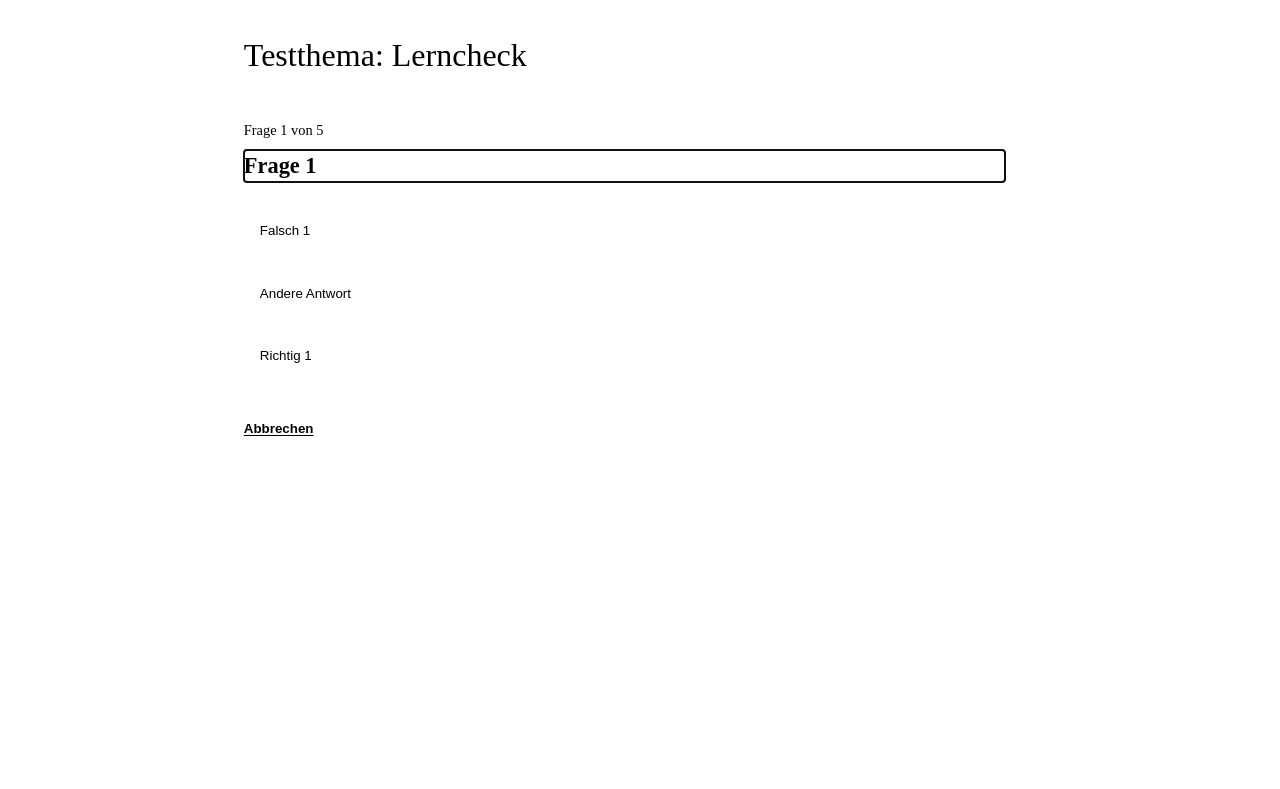
Test: LearningCheck › saves a perfect run immediately after the fifth answer
Check: the heading "Testthema: Lerncheck" is shown, box [244,37,527,73]
Check: the element named "Lerncheck zu Testthema" is shown, box [208,0,1072,486]
Click the button "Richtig 1" at (286, 356), box [244,330,1036,382]
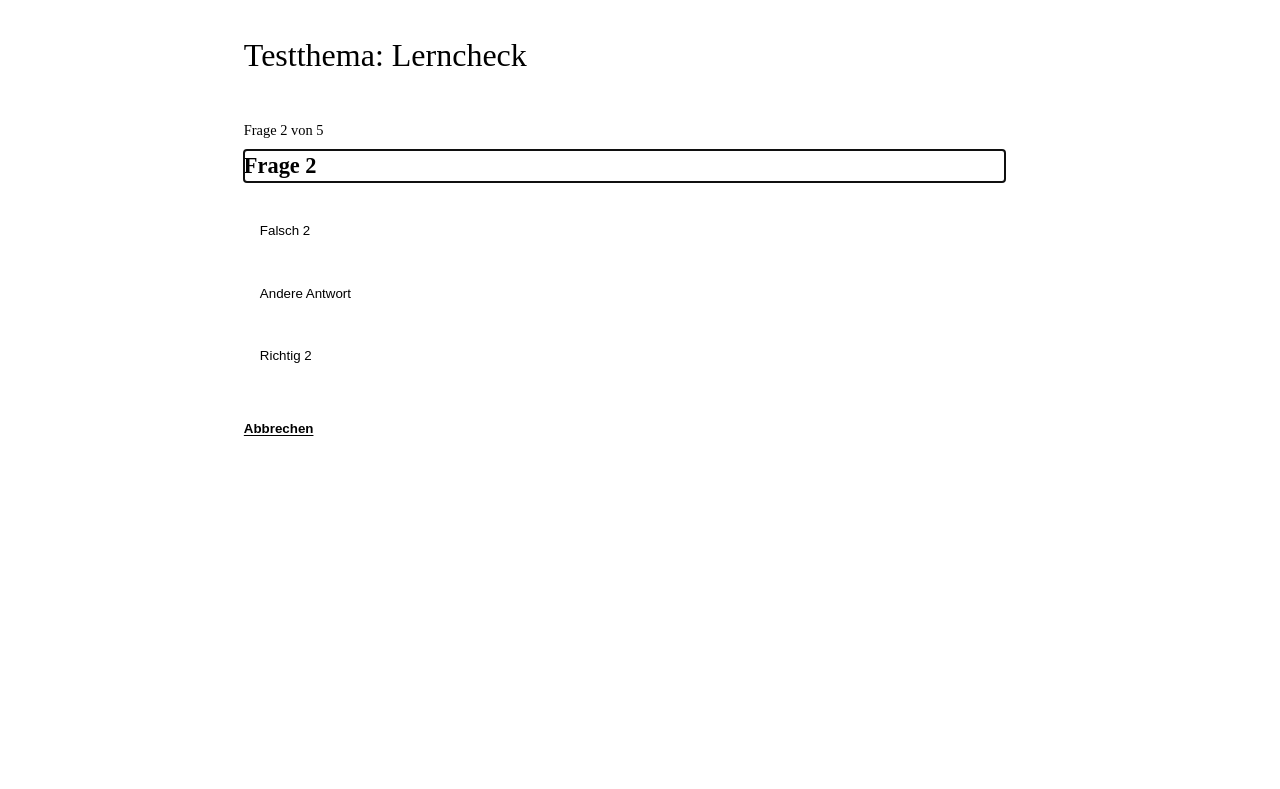
Click the button "Richtig 2" at (286, 356), box [244,330,1036,382]
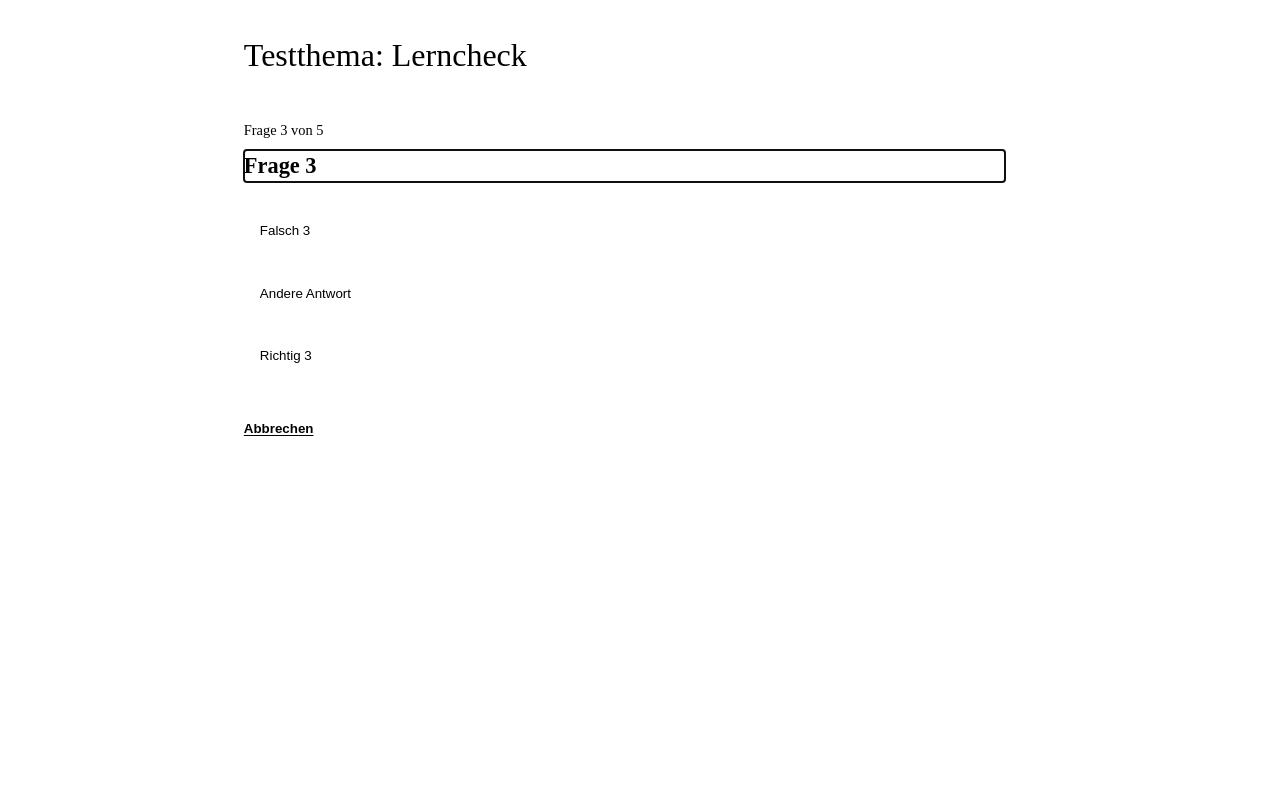
Click the button "Richtig 3" at (286, 356), box [244,330,1036,382]
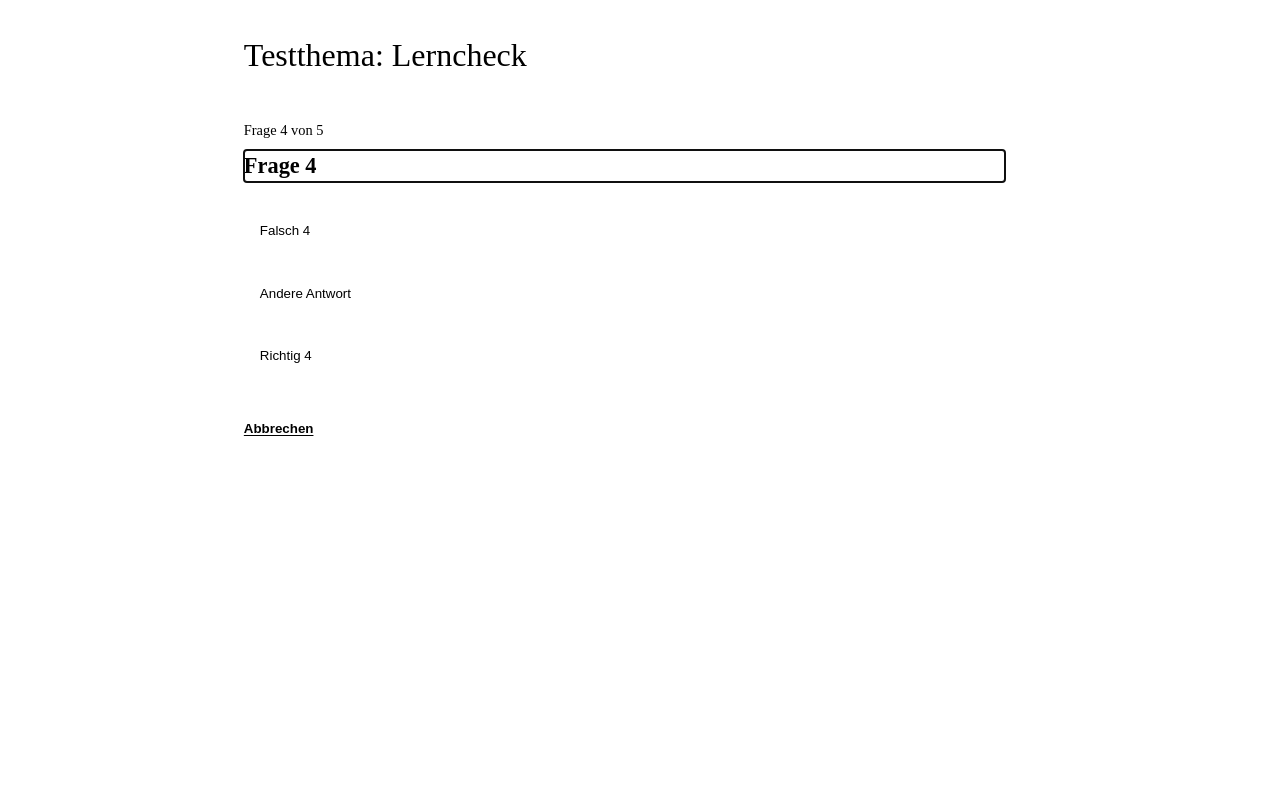
Click the button "Richtig 4" at (286, 356), box [244,330,1036,382]
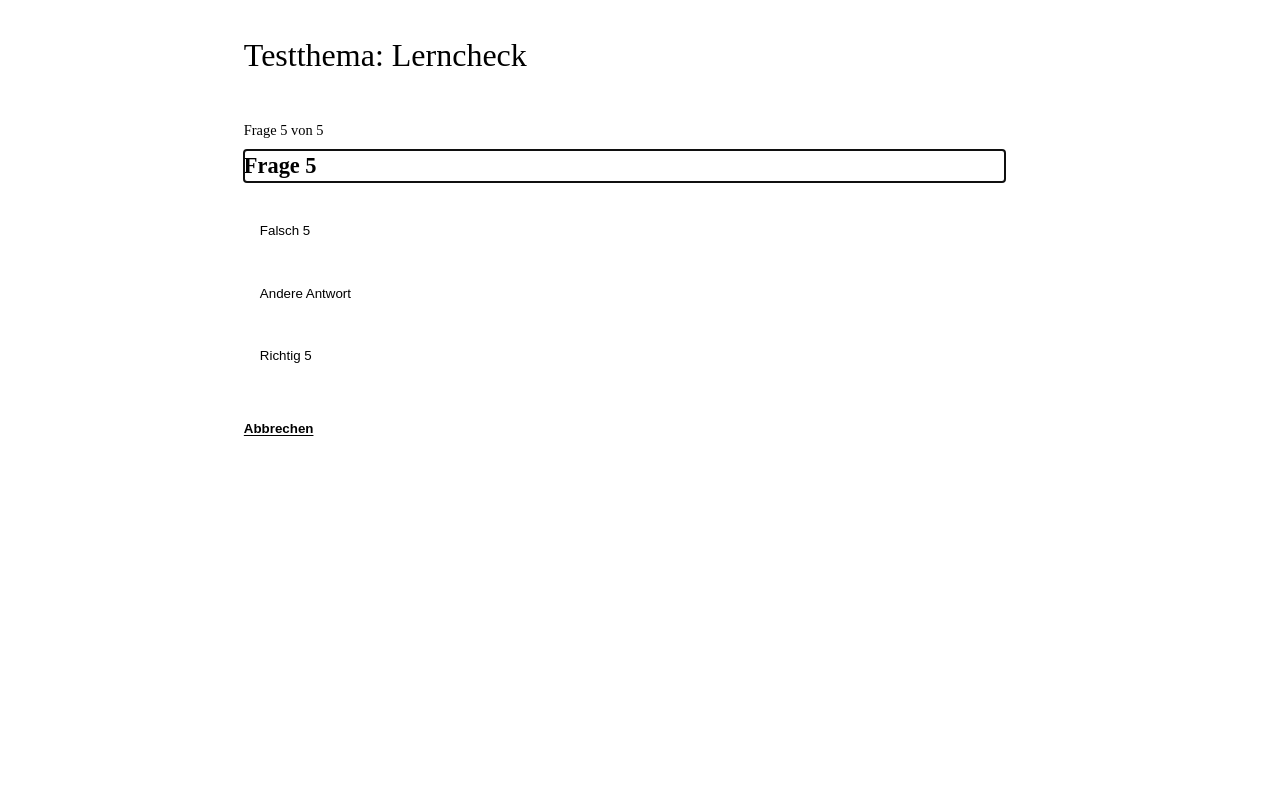
Click the button "Richtig 5" at (286, 356), box [244,330,1036,382]
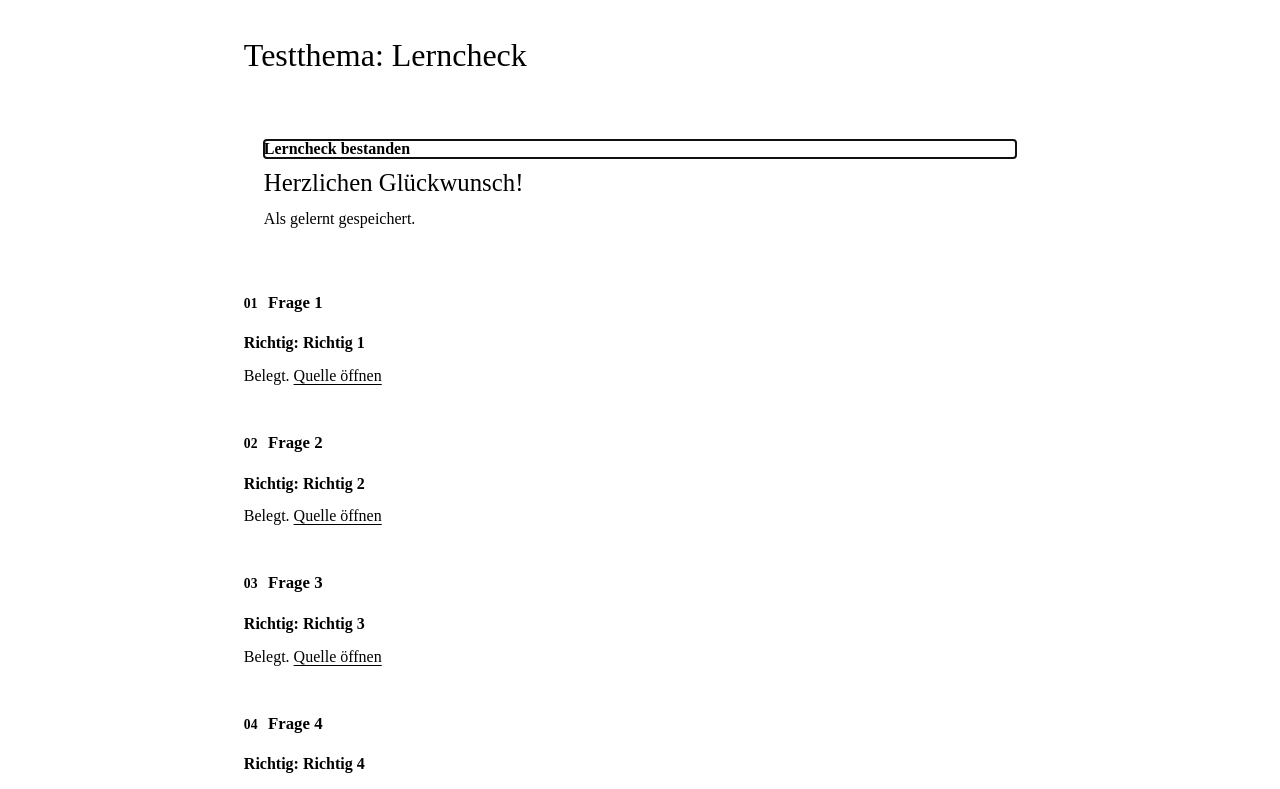
Check: the text "Als gelernt gespeichert." is shown, box [264,210,415,228]
